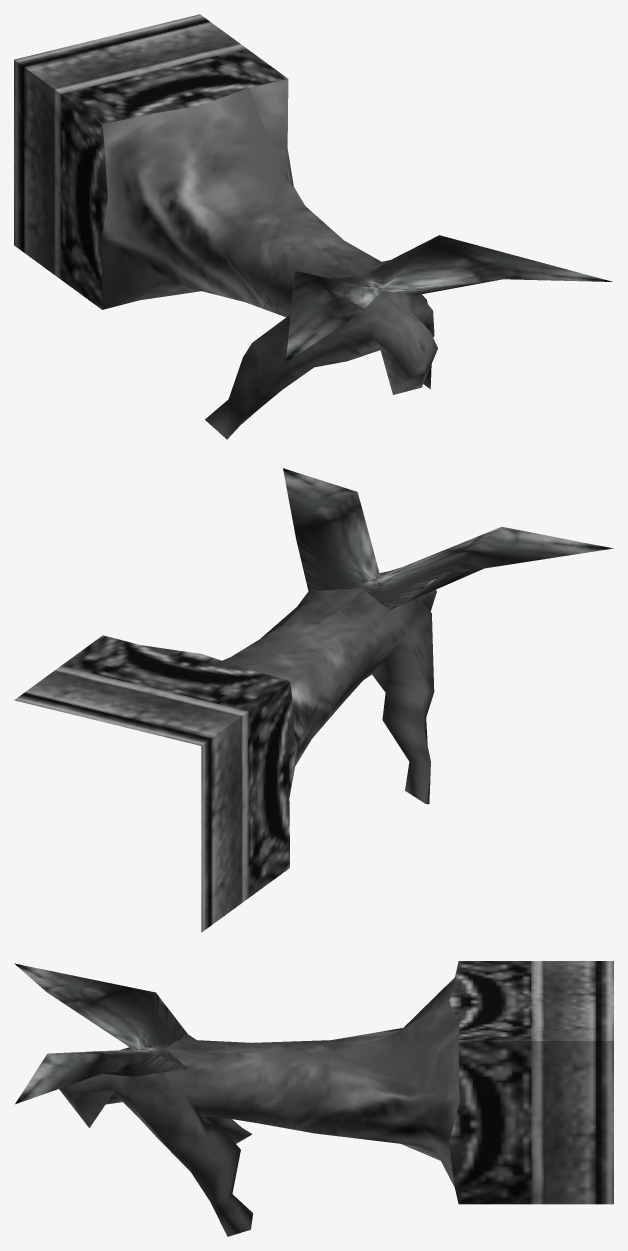
File: StoneStatue03.glb
3 renders of one model, top to bottom at view 1: azimuth 30°, elevation 25°; view 2: azimuth 150°, elevation 25°; view 3: azimuth 270°, elevation 25°, orthographic. The views are drawn at different scales.
Visible parts, largest first — view 1: model_StoneStatue03; view 2: model_StoneStatue03; view 3: model_StoneStatue03.
Part boxes in pixels (x1,y1,x2,y2): model_StoneStatue03: (14, 14, 612, 439); model_StoneStatue03: (14, 468, 613, 932); model_StoneStatue03: (14, 961, 613, 1236).
Bounding box in the file's own units: 1.47 × 0.9324 × 2.65.
2 materials, 2 textured.
